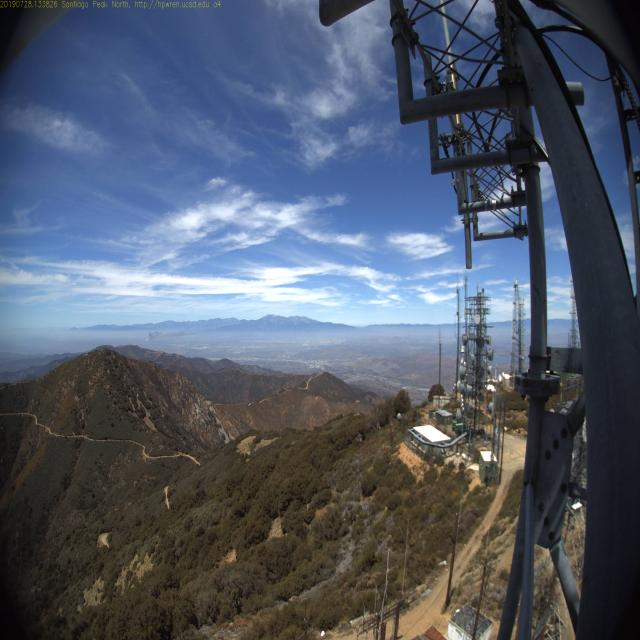smoke: (141, 322, 163, 350)
